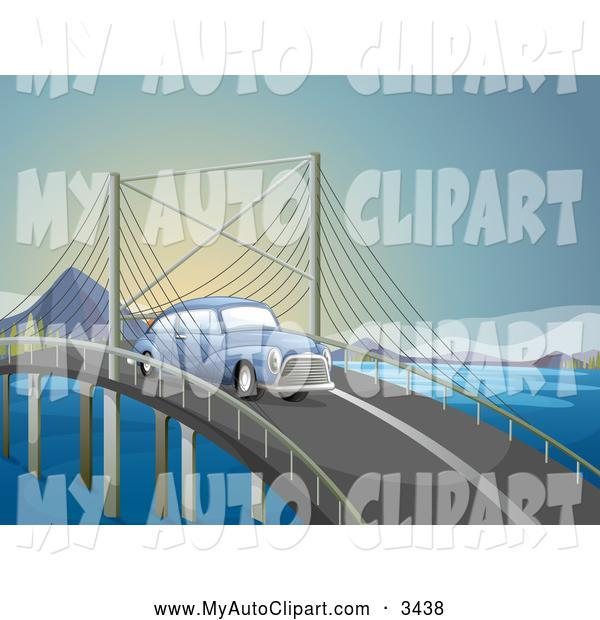car: (118, 294, 332, 408)
